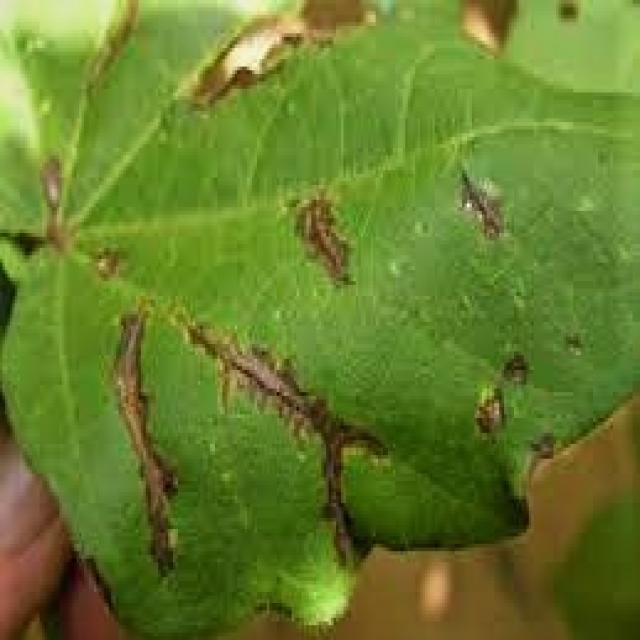Cotton Ball Rot: (284, 178, 361, 292), (455, 159, 509, 244)
Target Spot: (2, 0, 637, 636)
